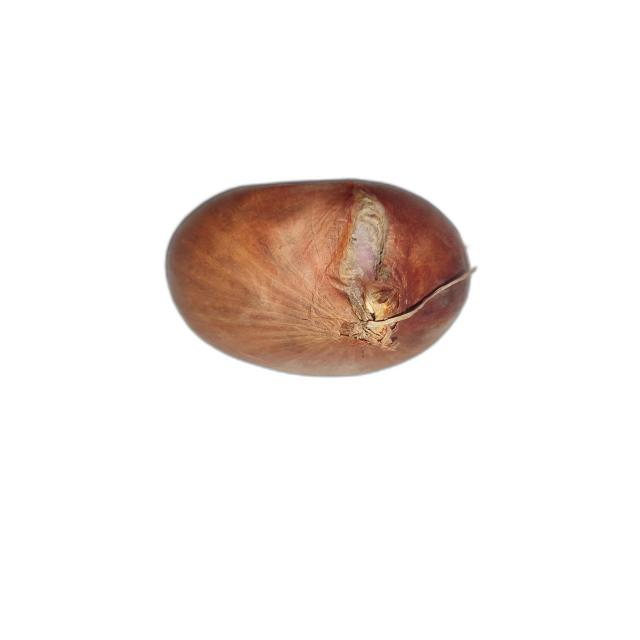onion: (163, 178, 477, 378)
